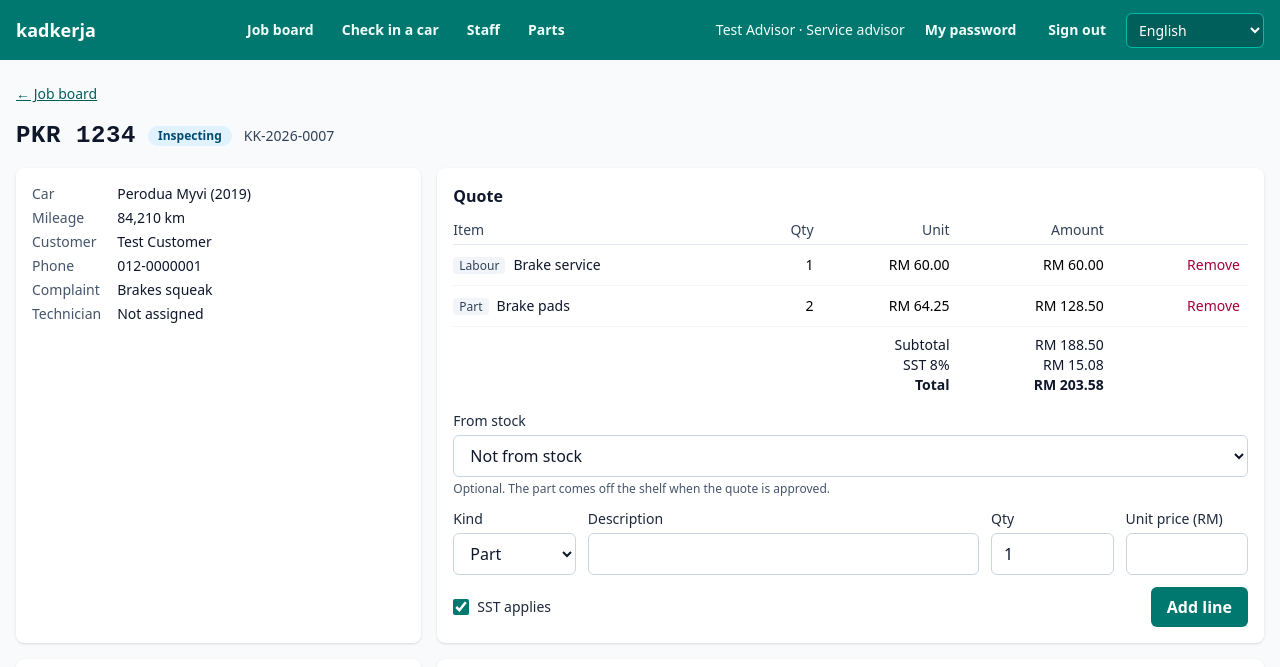
Scenario: JobPage › removes a line
The image size is (1280, 667).
Click the button with aria-label "Remove Brake service". click: (1214,265)
box: [1179, 251, 1248, 279]
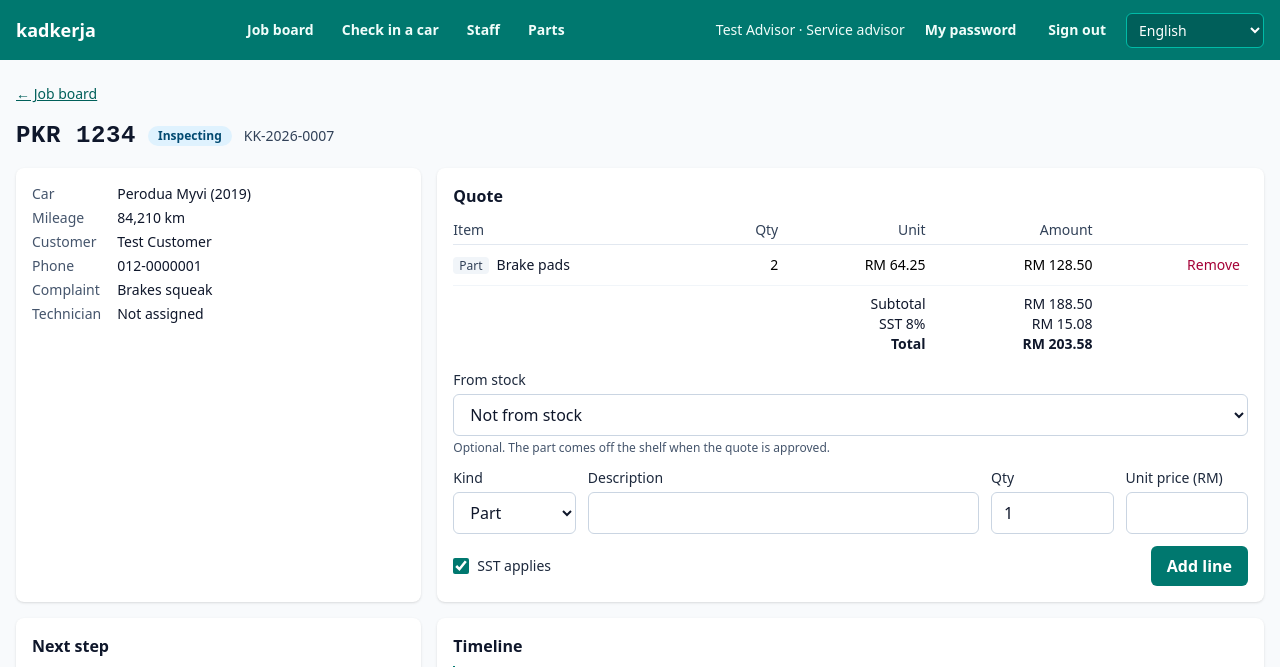
Expected: the text "Brake service" is gone
